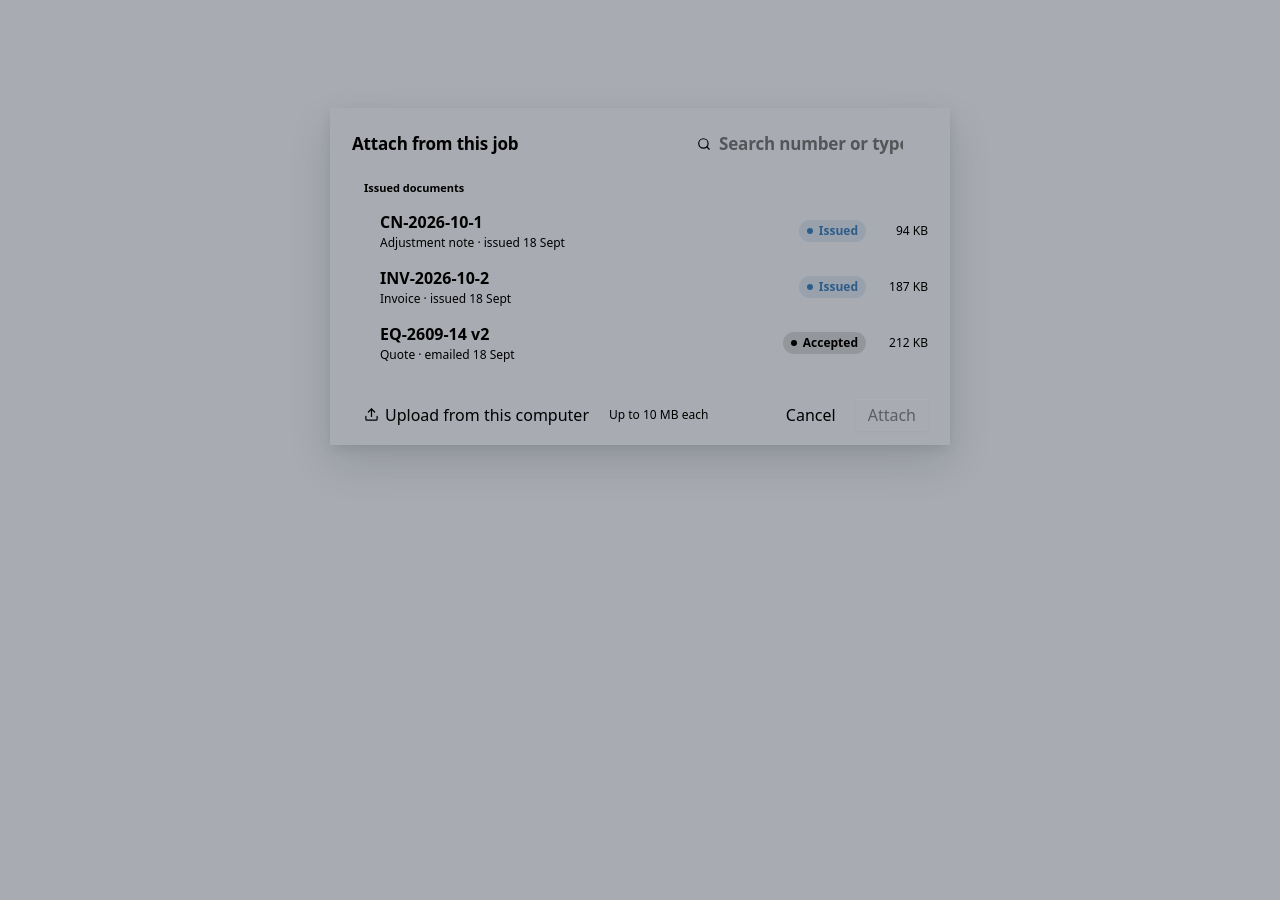
attachment picker › searches by number or type
Step 1. Type "adjustment" into the search field named "Search documents" → (819, 144), box [719, 131, 919, 157]
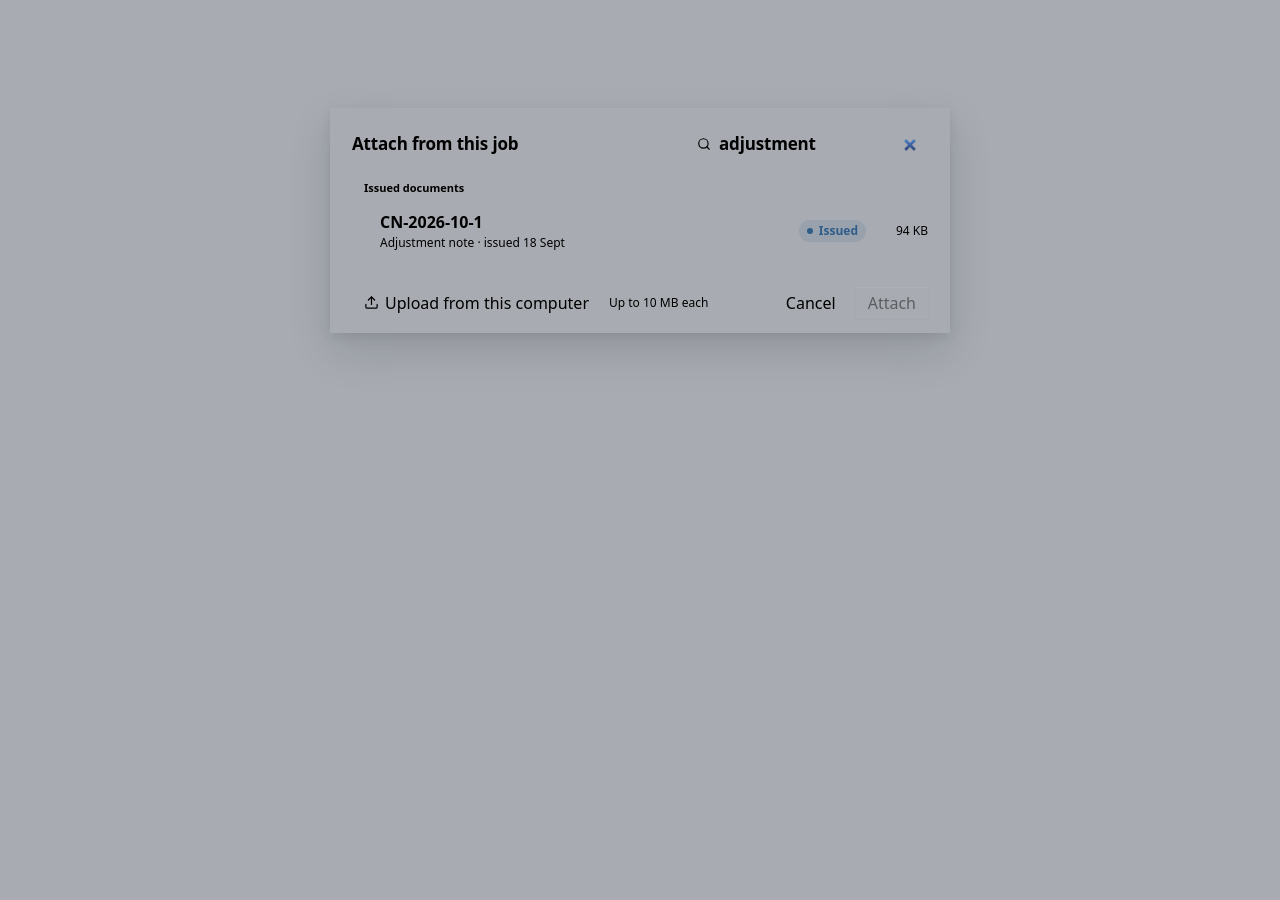
Expected: the text "CN-2026-10-1" is shown, [380, 210, 483, 232]
Expected: the text "EQ-2609-14 v2" is gone
